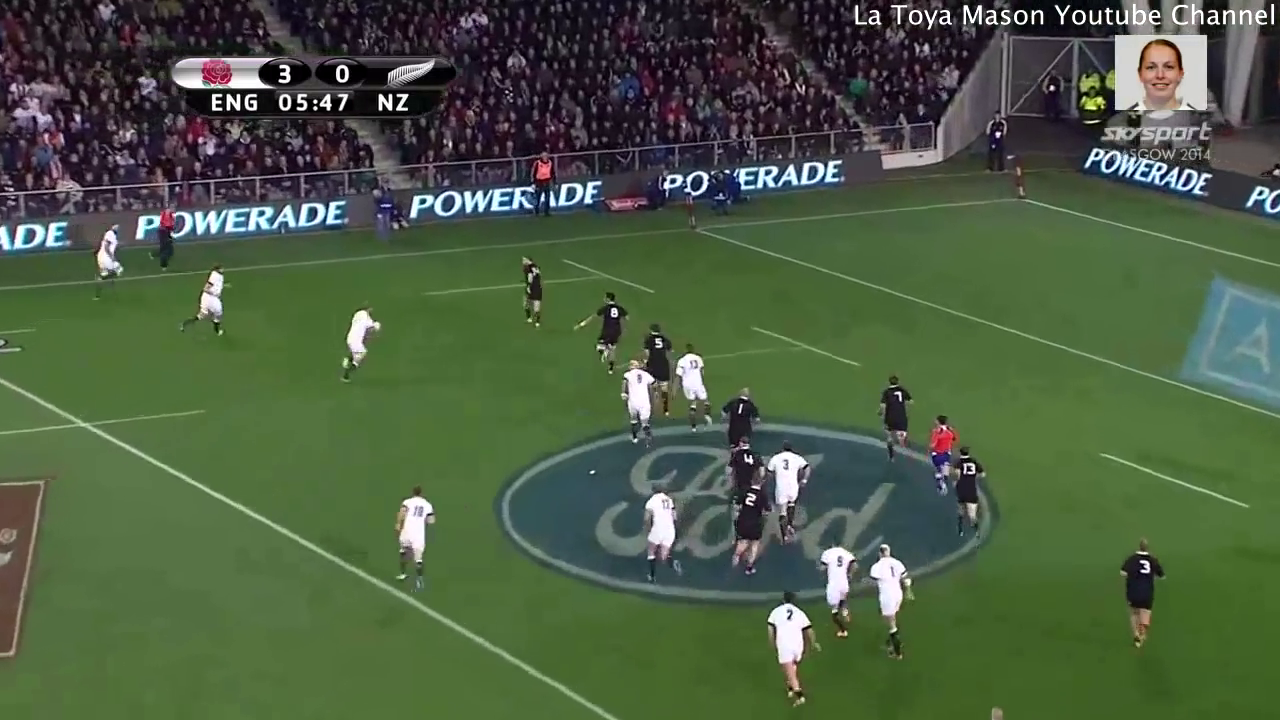player: (751, 579, 832, 712), (615, 469, 697, 598), (861, 534, 926, 674), (753, 427, 817, 561), (716, 460, 778, 591), (373, 472, 437, 597), (806, 528, 873, 646), (1110, 526, 1169, 659), (662, 331, 722, 444), (316, 294, 390, 385), (869, 361, 923, 473), (943, 439, 996, 553), (173, 258, 241, 344), (613, 356, 666, 460), (572, 289, 632, 380), (913, 406, 965, 510), (633, 310, 679, 424), (710, 425, 772, 507), (81, 218, 130, 306), (712, 377, 769, 452), (511, 250, 545, 339)
